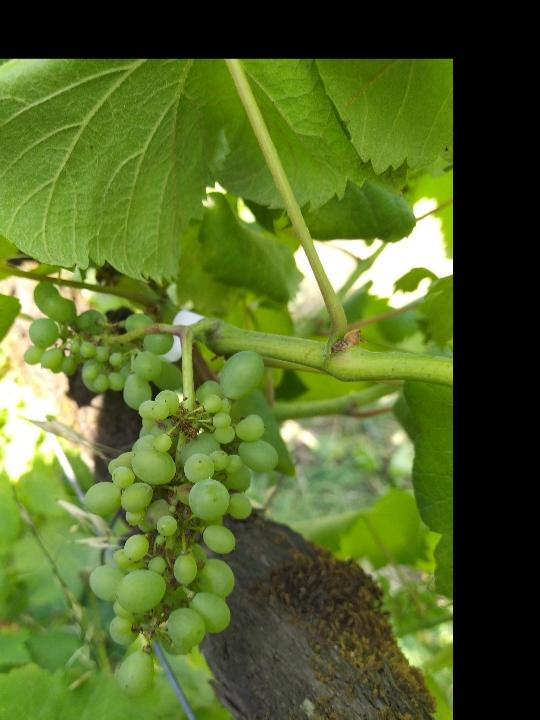grape: (21, 277, 287, 704)
